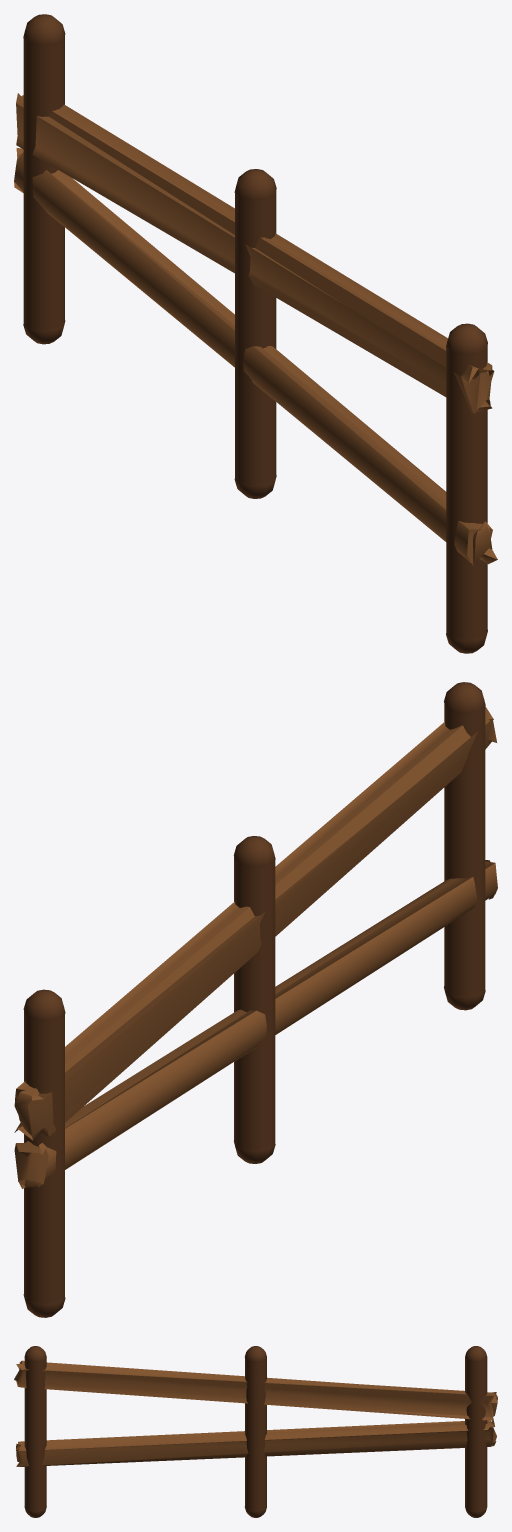
The model's file is fence.fbx.
3 renders of one model, top to bottom at view 1: azimuth 30°, elevation 25°; view 2: azimuth 150°, elevation 25°; view 3: azimuth 270°, elevation 25°, orthographic. The views are drawn at different scales.
Parts seen in each view (by area): view 1: fence; view 2: fence; view 3: fence.
Boxes of the visible parts, x1,y1,x2,y2 form: fence: (14, 14, 497, 653); fence: (14, 682, 497, 1317); fence: (14, 1346, 497, 1517).
Size of the model in its own units: 0.1164 by 1.02 by 2.64.
